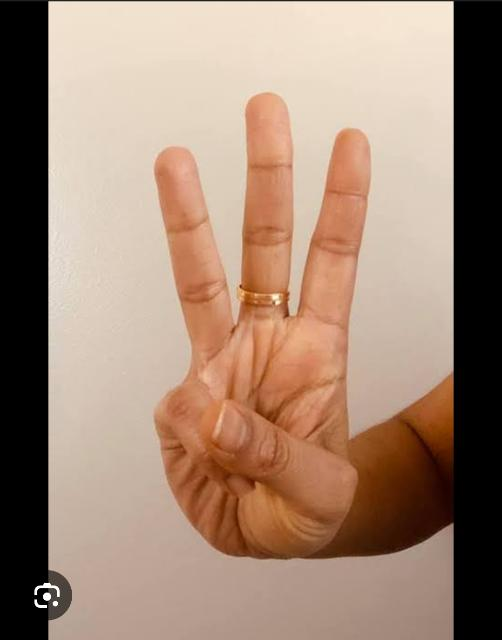trishool: (154, 94, 371, 559)
